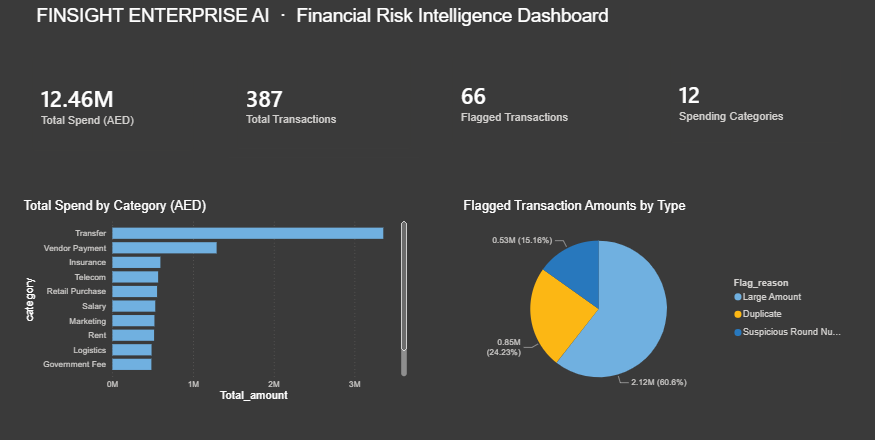

The dashboard page shown, as its layout file describes it:
{"tool":"powerbi","page":{"name":"Executive Overview","canvas":[1280,720],"ordinal":0},"visuals":[{"type":"cardVisual","fields":{"Data":["Sum(transactions.amount)"]},"box":[40,76.7,265,168.3],"z":0},{"type":"cardVisual","fields":{"Data":["CountNonNull(transactions.id)"]},"box":[333.3,76.7,283.3,166.7],"z":1000},{"type":"cardVisual","fields":{"Data":["CountNonNull(gold_spend_by_category.category)"]},"box":[952,76,278,158],"z":2000},{"type":"cardVisual","fields":{"Data":["Sum(gold_flagged_summary.count)"]},"box":[640,76.7,288.3,160],"z":3000},{"type":"clusteredBarChart","title":"Total Spend by Category (AED)","fields":{"Category":["gold_spend_by_category.category"],"Y":["Sum(gold_spend_by_category.total_amount)"]},"box":[39.5,295.6,557.6,295.6],"z":4000},{"type":"pieChart","title":"Flagged Transaction Amounts by Type","fields":{"Category":["gold_flagged_summary.flag_reason_type"],"Y":["Sum(gold_flagged_summary.total_amount)"]},"box":[668,296,562,296],"z":5000},{"type":"textbox","box":[58.3,15,975,43.3],"z":6000}]}

Visuals, with their boxes on the page's 1280x720 design canvas (x1, y1, x2, y2). These are canvas units, not pixel positions in the 875x440 screenshot, which may show the page scaled, cropped or inside an application window:
cardVisual - Sum(transactions.amount): {"left": 40, "top": 77, "right": 305, "bottom": 245}
cardVisual - CountNonNull(transactions.id): {"left": 333, "top": 77, "right": 617, "bottom": 243}
cardVisual - CountNonNull(gold_spend_by_category.category): {"left": 952, "top": 76, "right": 1230, "bottom": 234}
cardVisual - Sum(gold_flagged_summary.count): {"left": 640, "top": 77, "right": 928, "bottom": 237}
"Total Spend by Category (AED)" clusteredBarChart: {"left": 40, "top": 296, "right": 597, "bottom": 591}
"Flagged Transaction Amounts by Type" pieChart: {"left": 668, "top": 296, "right": 1230, "bottom": 592}
textbox: {"left": 58, "top": 15, "right": 1033, "bottom": 58}
